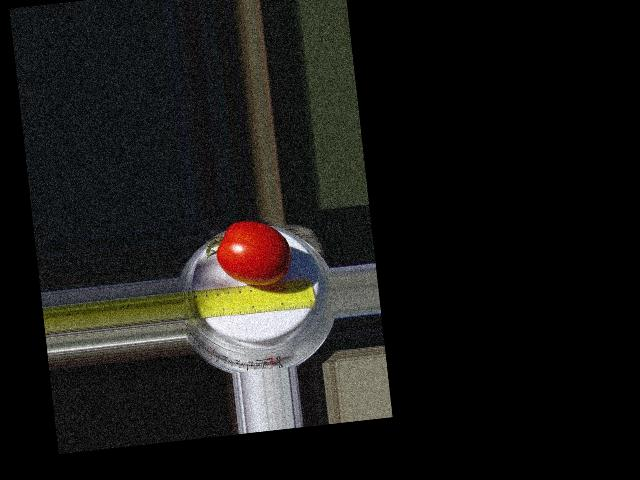tomato: (212, 215, 293, 291)
